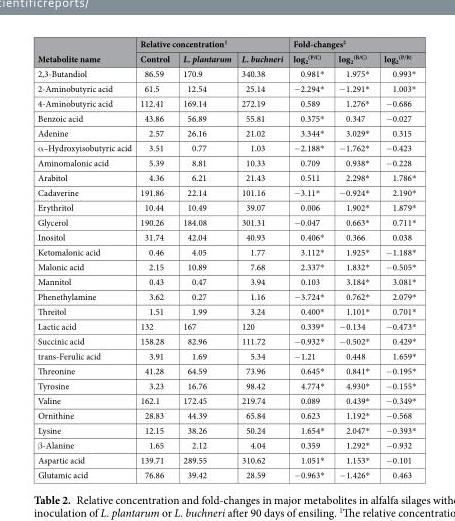table: (36, 37, 415, 481)
table column: (36, 37, 135, 481), (175, 37, 235, 481), (235, 37, 287, 481), (330, 37, 376, 481), (287, 37, 330, 481), (135, 37, 175, 481), (376, 37, 415, 481)
table column header: (36, 37, 415, 65)
table row: (36, 50, 415, 65), (36, 65, 415, 80), (36, 80, 415, 95), (36, 95, 415, 110), (36, 110, 415, 125), (36, 125, 415, 140), (36, 140, 415, 155), (36, 169, 415, 184), (36, 184, 415, 199), (36, 199, 415, 214), (36, 214, 415, 229), (36, 229, 415, 244), (36, 244, 415, 259), (36, 259, 415, 274), (36, 288, 415, 303), (36, 303, 415, 318), (36, 318, 415, 333), (36, 333, 415, 348), (36, 348, 415, 363), (36, 363, 415, 378), (36, 392, 415, 407), (36, 407, 415, 422), (36, 422, 415, 437), (36, 437, 415, 452), (36, 452, 415, 467), (36, 155, 415, 169), (36, 274, 415, 288), (36, 378, 415, 392), (36, 467, 415, 481), (36, 37, 415, 50)
table spanning cell: (36, 37, 135, 65), (135, 37, 287, 50), (287, 37, 415, 50)
